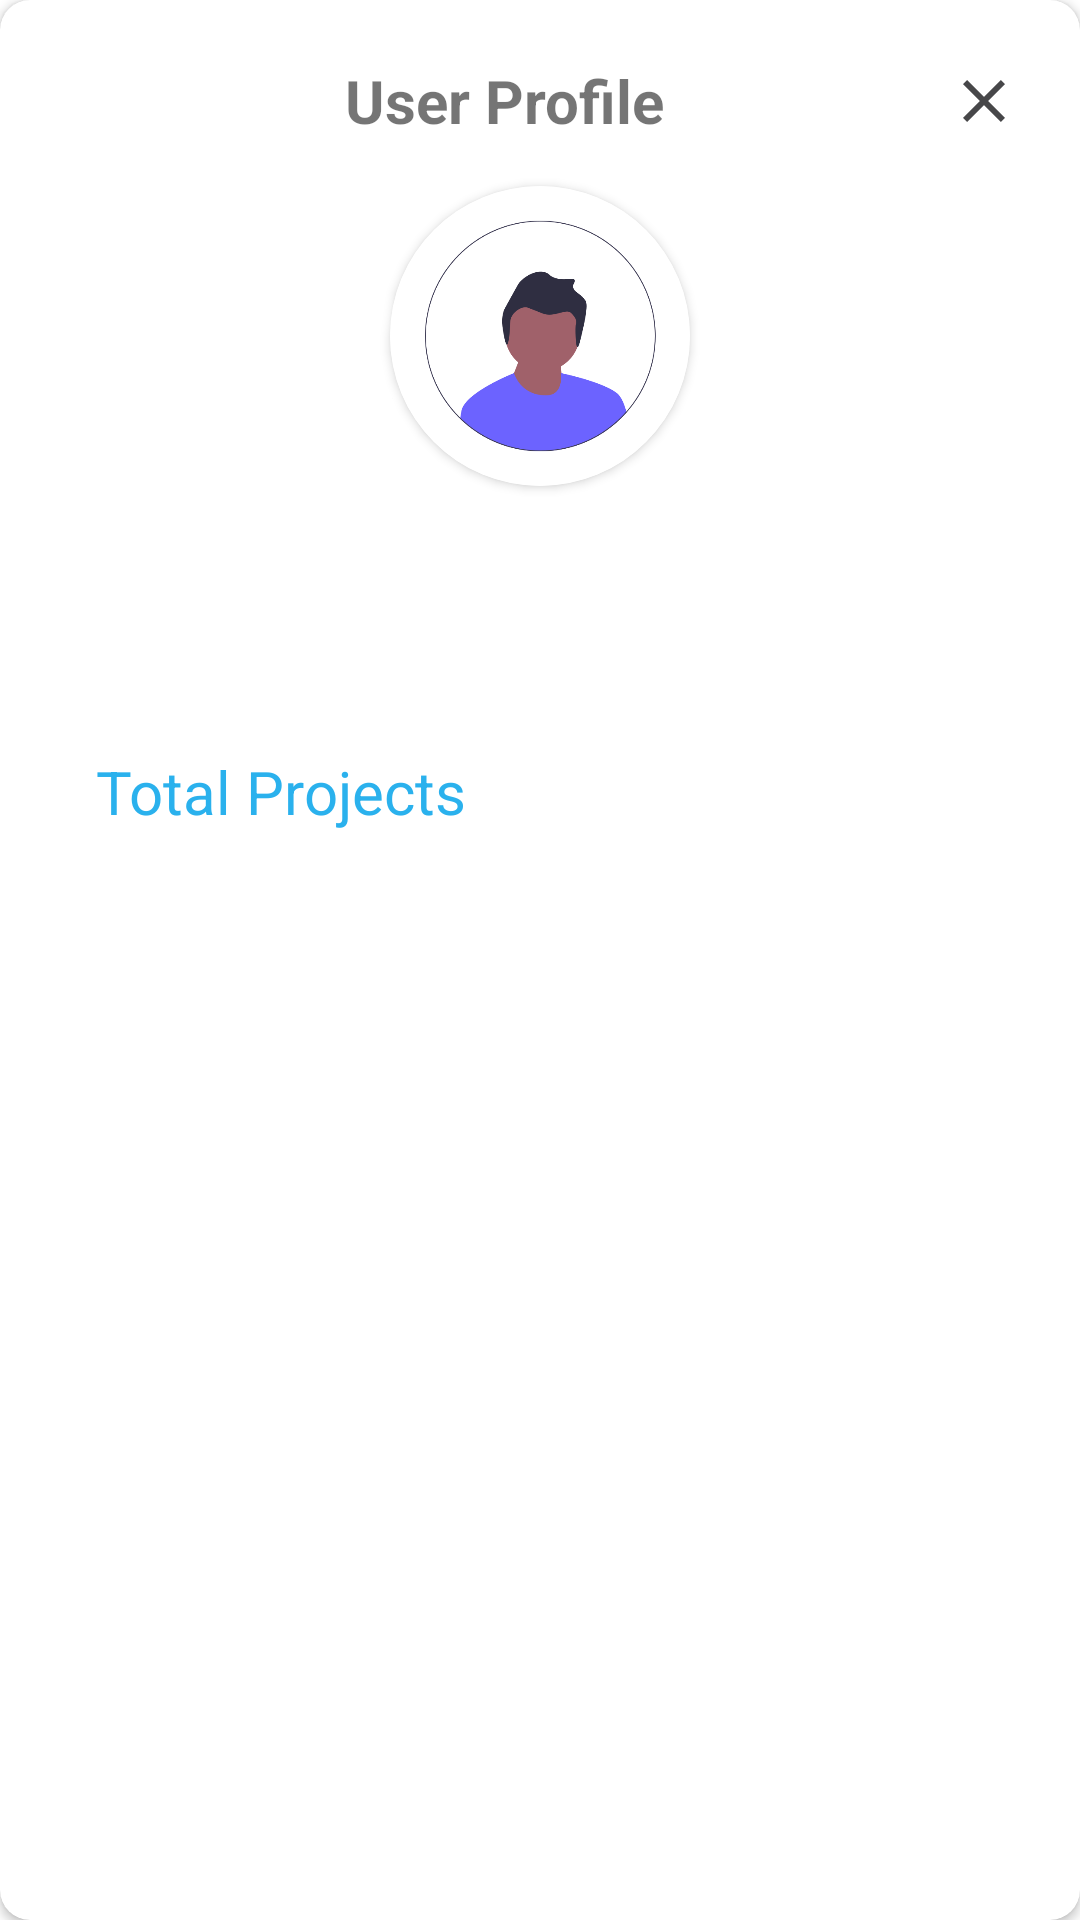

Locate icon controls on the screen. Image size 1080 x 1920, boxes as (left=x1, top=y1, right=x2, bottom=y2).
close: (left=963, top=80, right=1005, bottom=122)
